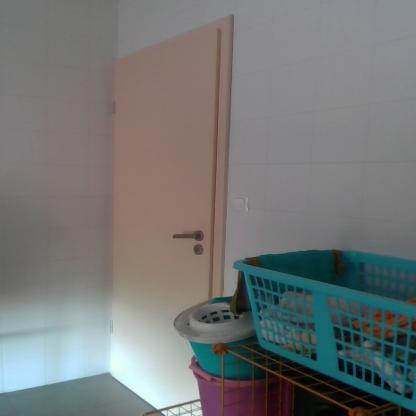door: (112, 67, 216, 416)
hinged: (113, 96, 120, 114), (109, 318, 115, 336)
lever: (169, 232, 205, 240)
